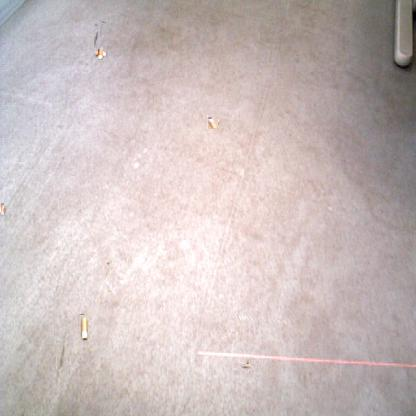dirty: (78, 314, 88, 340), (207, 116, 219, 129), (95, 48, 105, 58), (0, 202, 4, 215)
mark: (56, 341, 66, 369), (94, 30, 100, 50), (243, 362, 253, 372), (106, 260, 112, 268), (94, 22, 100, 28), (100, 19, 106, 25)
